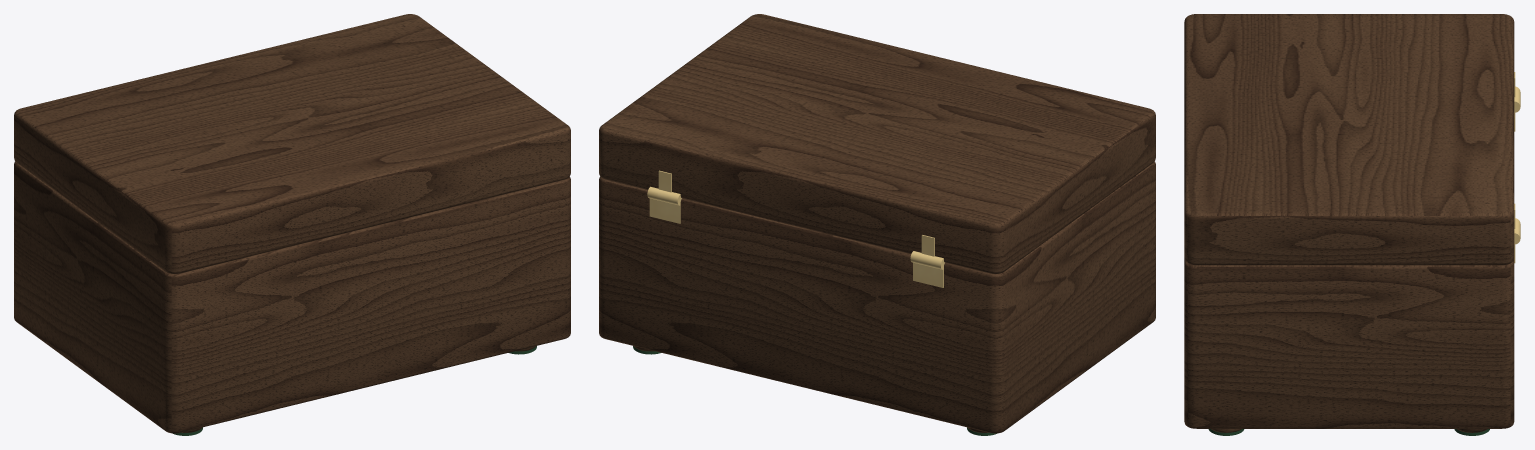
File: musicbox.glb
3 views of the same model, side by side, from view 1: azimuth 30°, elevation 25°; view 2: azimuth 150°, elevation 25°; view 3: azimuth 270°, elevation 25° (orthographic). The views are drawn at different scales.
Visible parts, largest first — view 1: lid, case; view 2: lid, case; view 3: lid, case.
Part boxes in pixels (x1,y1,x2,y2): lid: (14,14,570,274); case: (14,161,570,433); lid: (599,14,1155,274); case: (599,161,1155,433); lid: (1184,14,1520,265); case: (1184,86,1520,432).
Size of the model in its own units: 0.16 by 0.085 by 0.1121.
Materials: 10 (9 with a texture image).
